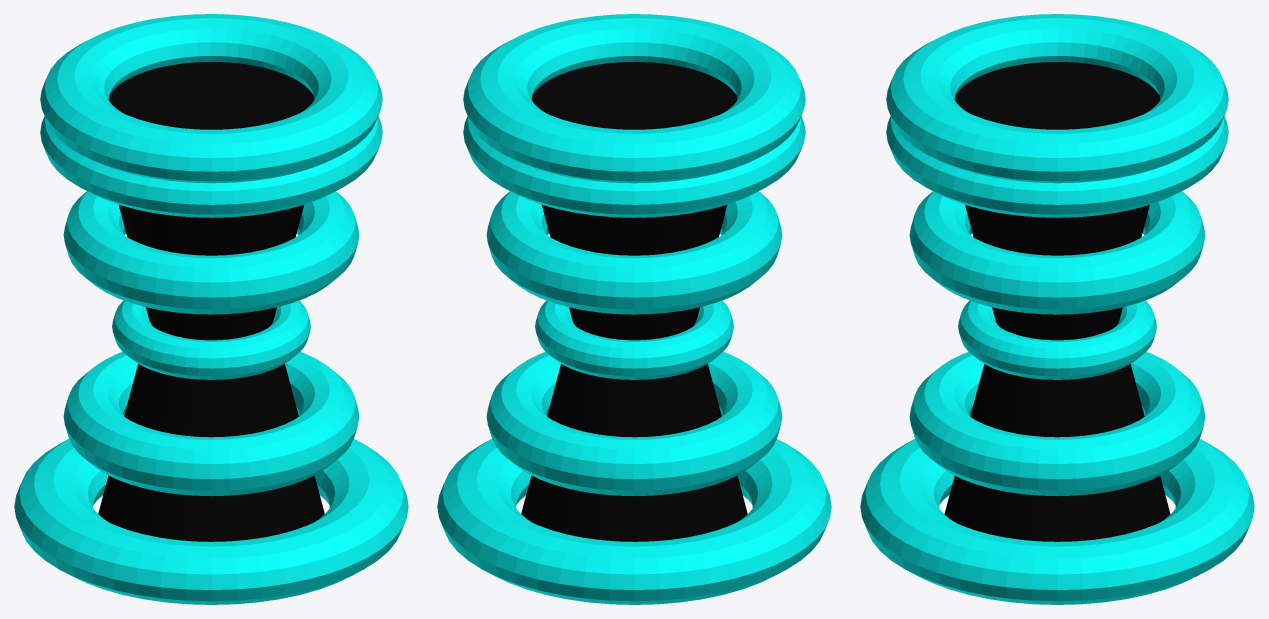
File: Kek torony.glb
The picture shows the model from 3 angles, left to right: view 1: azimuth 30°, elevation 25°; view 2: azimuth 150°, elevation 25°; view 3: azimuth 270°, elevation 25°; orthographic projection.
Parts seen in each view (by area): view 1: Torus.004; view 2: Torus.004; view 3: Torus.004.
Boxes of the visible parts, box(x1,y1,x2,y2) form: Torus.004: box(14, 14, 408, 604); Torus.004: box(437, 14, 831, 604); Torus.004: box(860, 14, 1254, 604).
Size of the model in its own units: 2.5 by 3.21 by 2.5.
